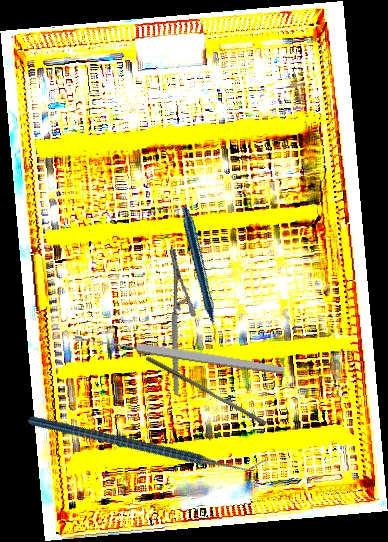Chopper: (27, 342, 268, 542)
Handpiece: (139, 206, 257, 342)
Needle Holder: (126, 247, 222, 396)
Pusher: (142, 355, 270, 427)
Surgical Spoon: (74, 331, 285, 377)
